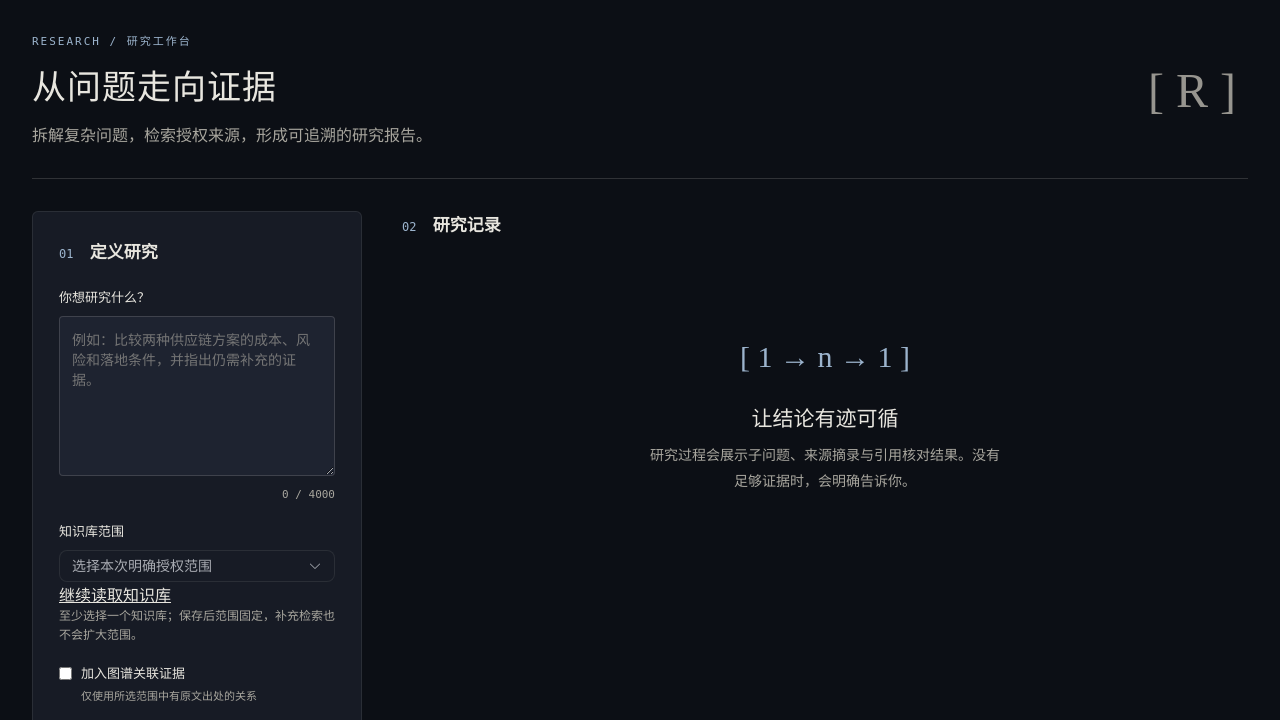
Test case: durable research page › reads the real paged knowledge response and exposes further authorized pages
Click the button "继续读取知识库": point(115, 594) [59,582,171,606]
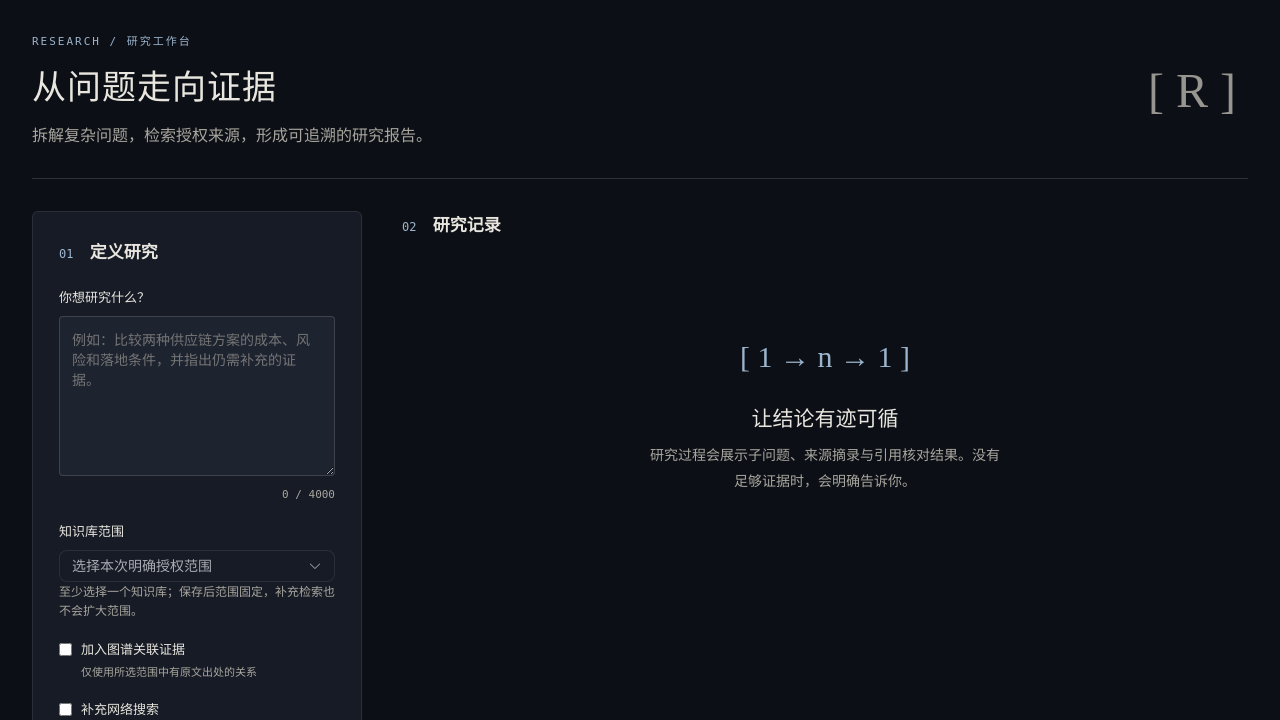
Check: the text "继续读取知识库" is gone
